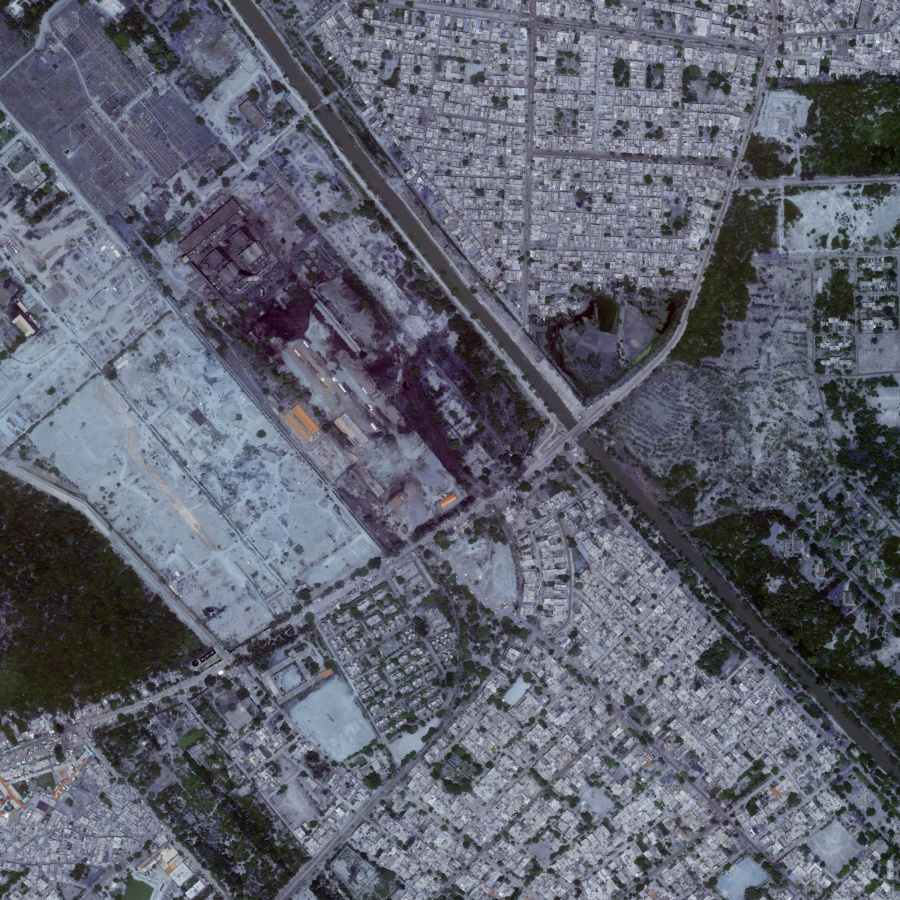PowerPlant: (179, 191, 478, 514)
